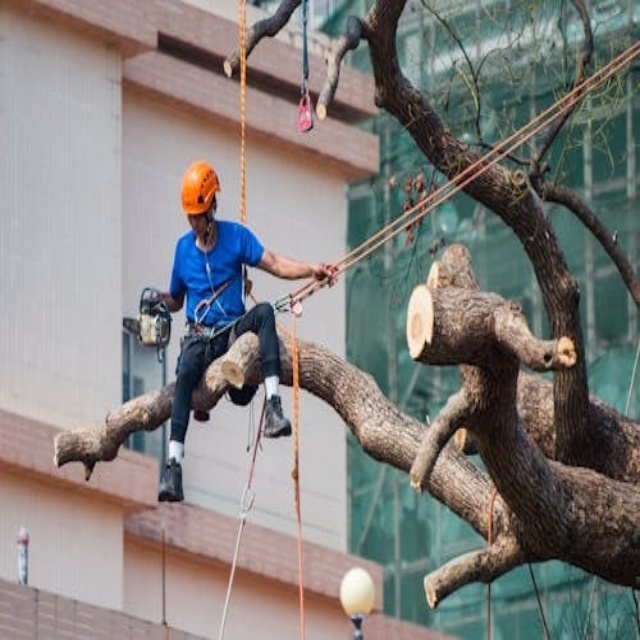Sin_guantes: (310, 256, 337, 292)
